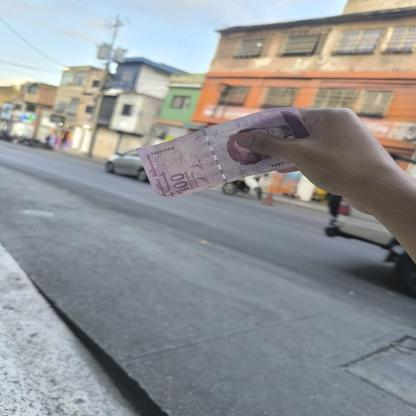one_hundred-front-vef: (135, 104, 312, 199)
